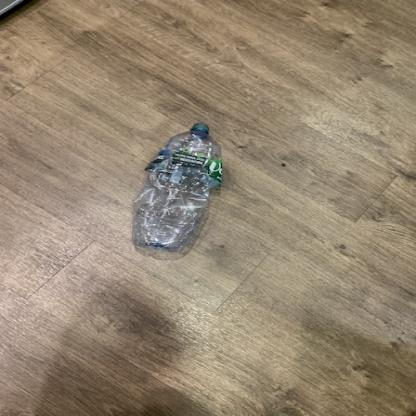trash: (124, 121, 228, 256)
